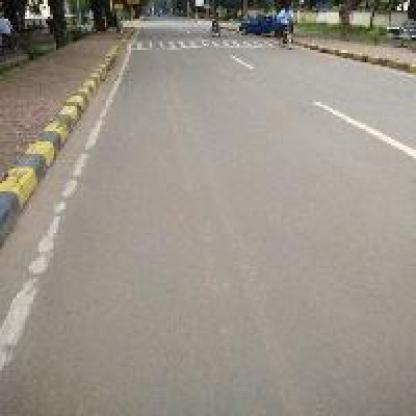Speed Bump: (131, 35, 268, 54)
